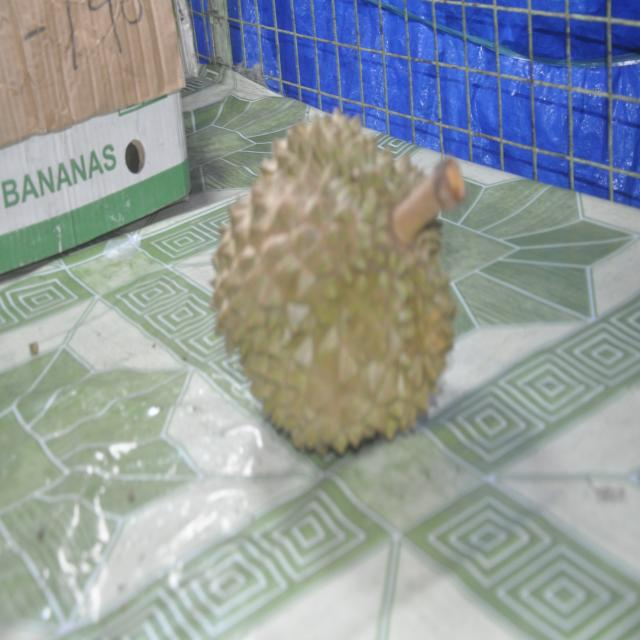mature: (213, 111, 465, 453)
